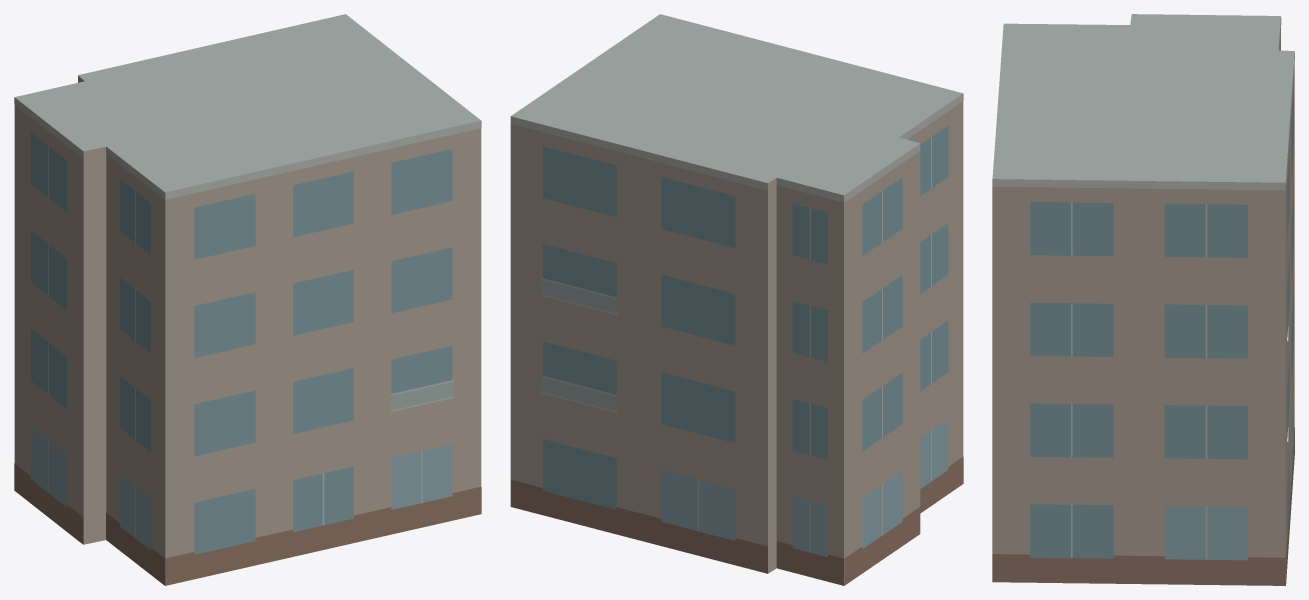
File: survey-upis-33040230.glb
The picture shows the model from 3 angles, left to right: view 1: azimuth 30°, elevation 25°; view 2: azimuth 150°, elevation 25°; view 3: azimuth 270°, elevation 25°; orthographic projection. The views are drawn at different scales.
Parts seen in each view (by area): view 1: survey-upis-33040230.tmp; view 2: survey-upis-33040230.tmp; view 3: survey-upis-33040230.tmp.
Boxes of the visible parts, <box> form: survey-upis-33040230.tmp: <box>14,14,481,585</box>; survey-upis-33040230.tmp: <box>510,14,963,585</box>; survey-upis-33040230.tmp: <box>992,14,1294,585</box>.
Size of the model in its own units: 11.5 by 12.8 by 8.72.
